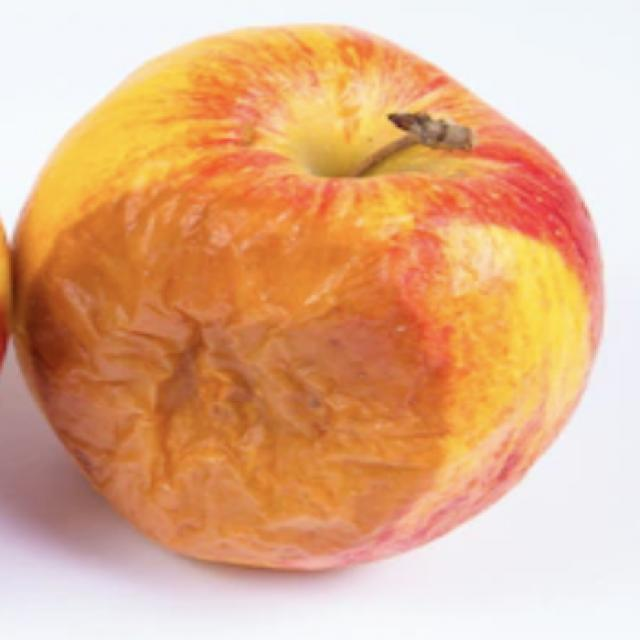Rotten: (18, 22, 605, 580)
